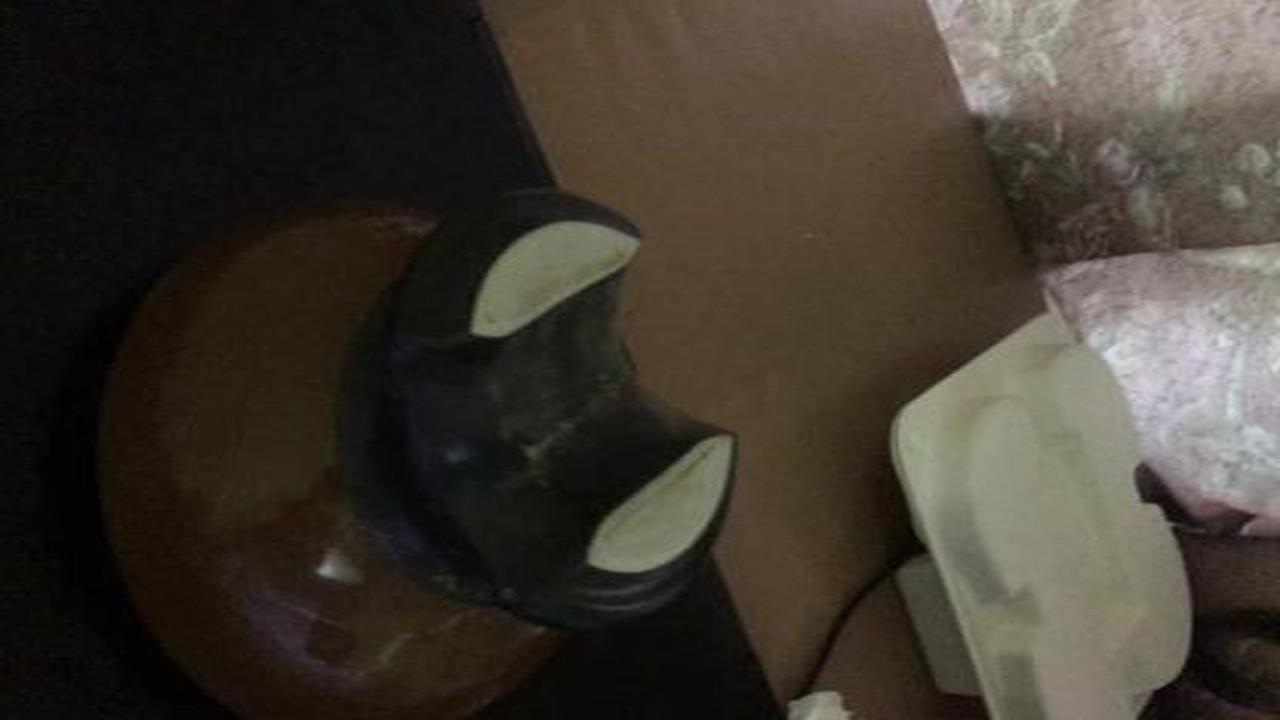insulator_pin: (49, 191, 776, 710)
